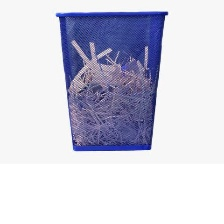book: (59, 34, 163, 147)
